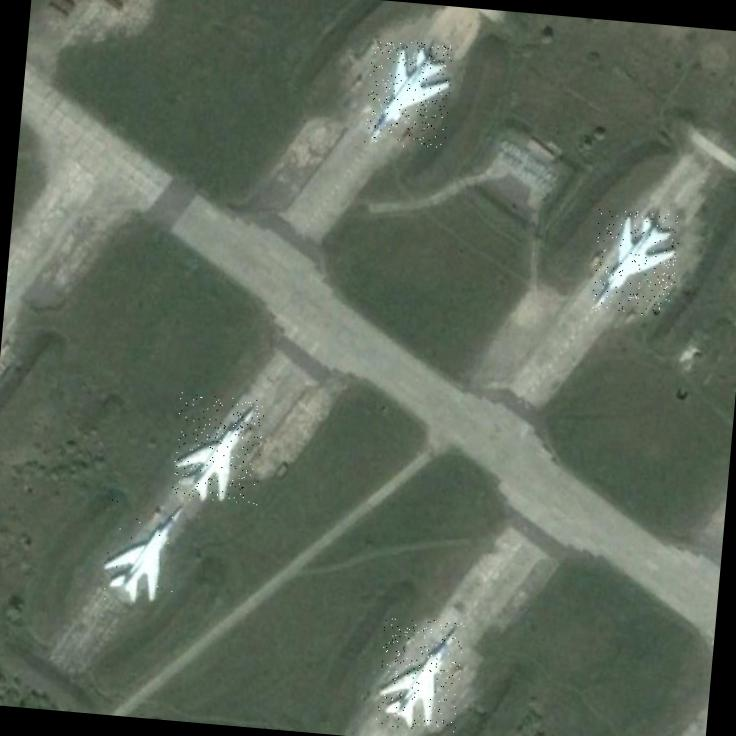A12: (171, 392, 266, 506), (375, 615, 464, 732), (363, 38, 453, 150), (590, 207, 680, 318), (99, 496, 188, 607)
